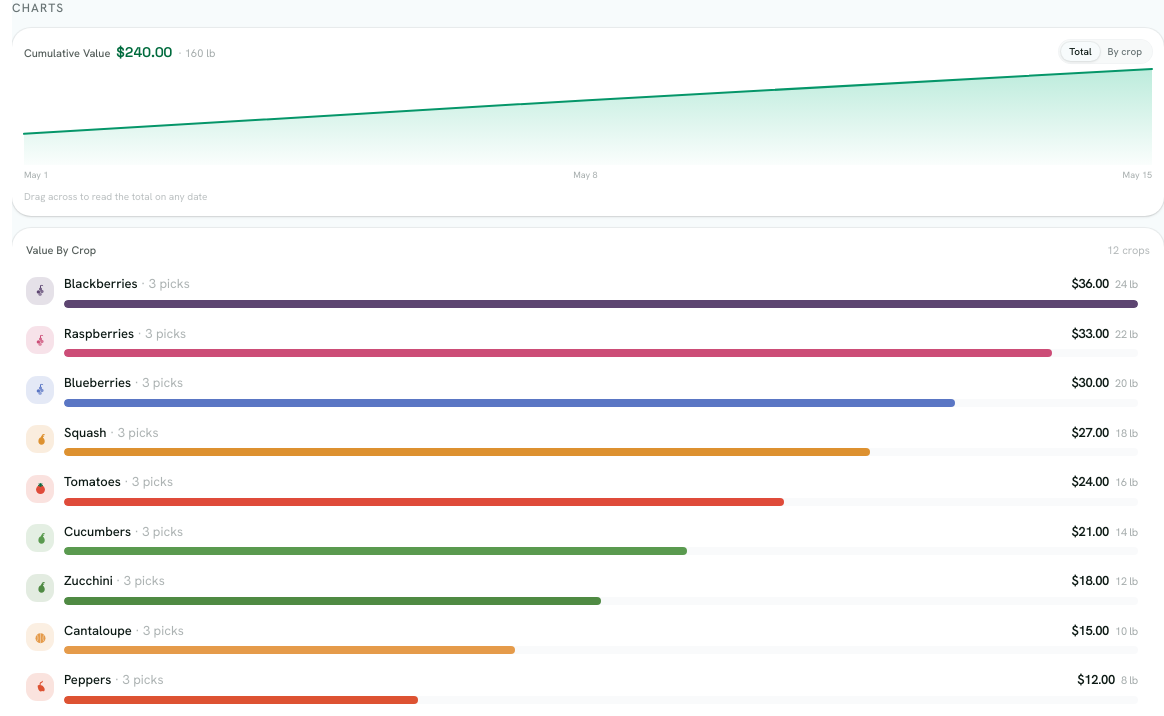
Test: HarvestCharts by-crop breakdown › keeps a tail band only for picks logged against no crop
Step 1. Click the tab "By crop" → coordinates (1125, 52), box x1=1100 y1=42 x2=1150 y2=61
(page scrolled)
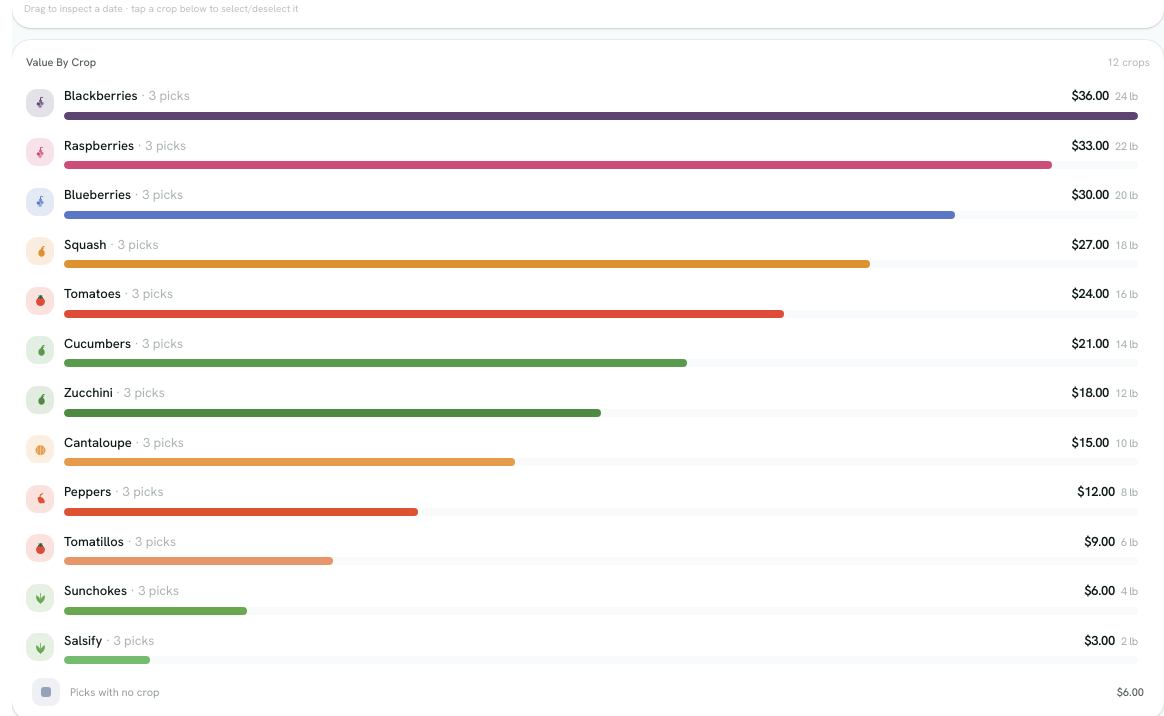
Now the text "Picks with no crop" is shown, box x1=70 y1=685 x2=160 y2=699
